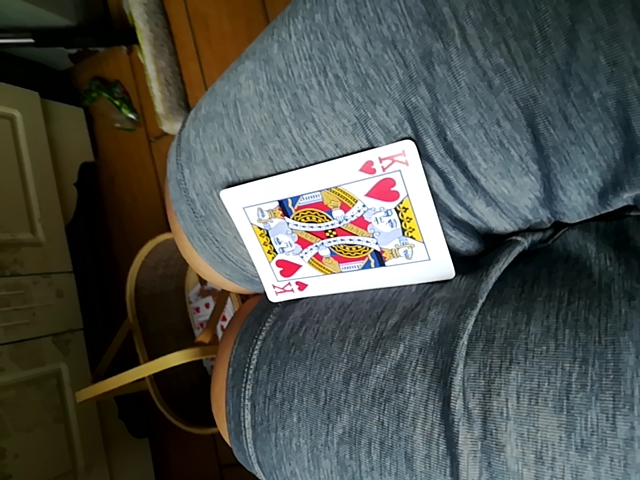hx k: (218, 143, 452, 302)
